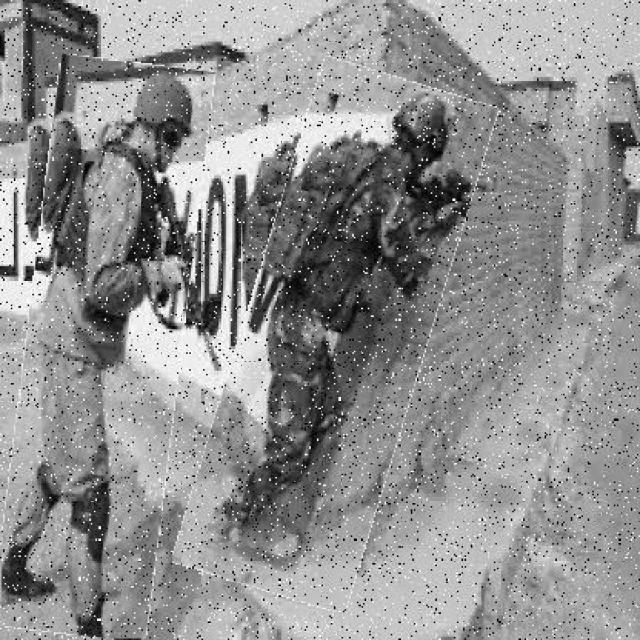Person: (209, 64, 463, 609), (9, 58, 200, 639)
